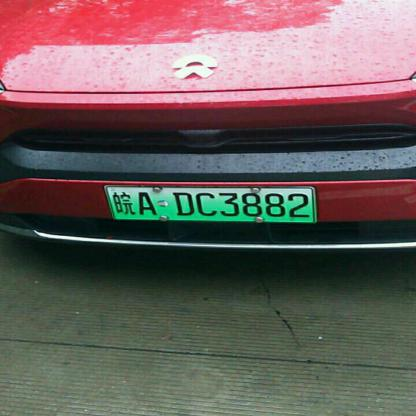lp: (104, 185, 315, 221)
